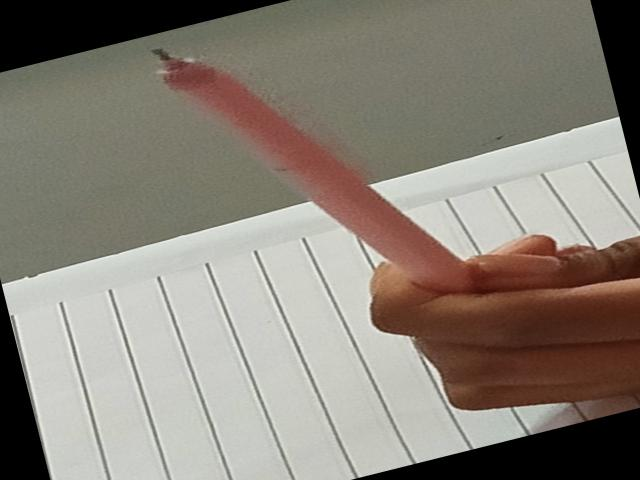PEN: (108, 6, 501, 320)
